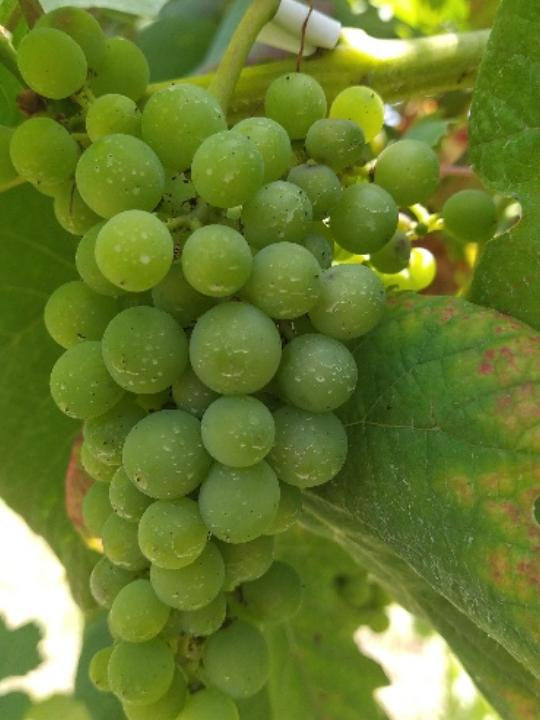grape: (0, 0, 499, 720)
